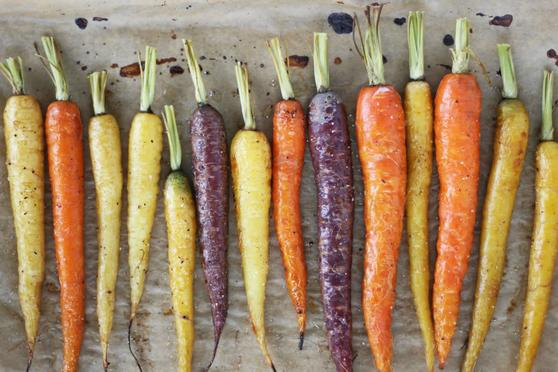carrot: (39, 99, 98, 372), (353, 83, 408, 366), (224, 128, 280, 349), (436, 69, 472, 368), (271, 99, 315, 337), (159, 171, 205, 372), (89, 110, 123, 371), (124, 108, 156, 317)
